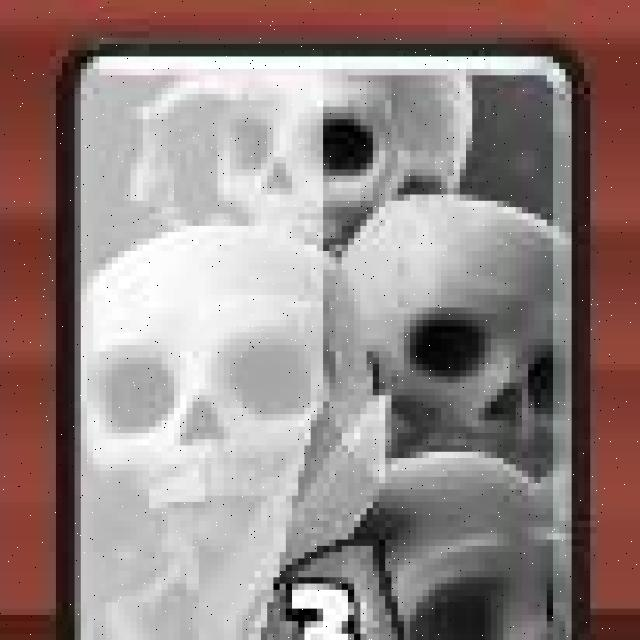Skeleton_Army: (66, 37, 586, 640)
